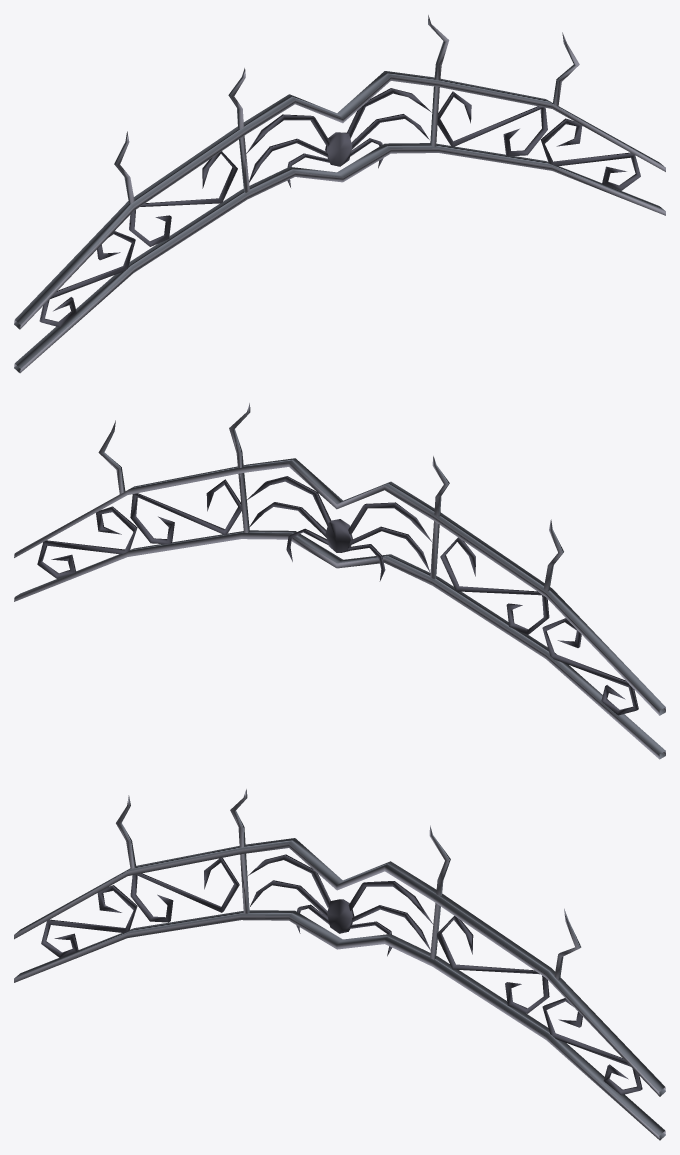
File: HWN20_IronEntranceArch_02.gltf
3 renders of one model, top to bottom at view 1: azimuth 30°, elevation 25°; view 2: azimuth 150°, elevation 25°; view 3: azimuth 330°, elevation 25°, orthographic.
Visible parts, largest first — view 1: HWN20_IronEntranceArch_02_glb; view 2: HWN20_IronEntranceArch_02_glb; view 3: HWN20_IronEntranceArch_02_glb.
Boxes of the visible parts, x1,y1,x2,y2 form: HWN20_IronEntranceArch_02_glb: (14, 15, 665, 373); HWN20_IronEntranceArch_02_glb: (14, 403, 665, 759); HWN20_IronEntranceArch_02_glb: (14, 789, 665, 1140).
Size of what is drawn, in the model's own units: 9.21 by 3.48 by 0.2176.
1 material, 1 textured.
